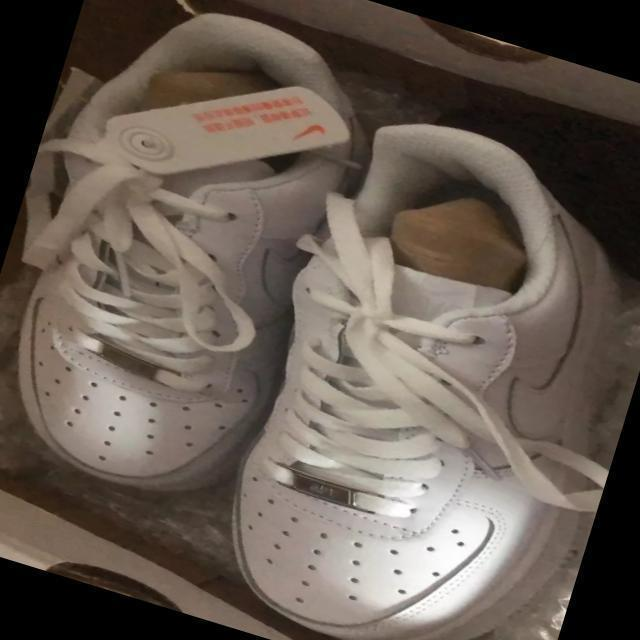nike fake air force: (188, 89, 640, 640), (0, 0, 391, 528)
